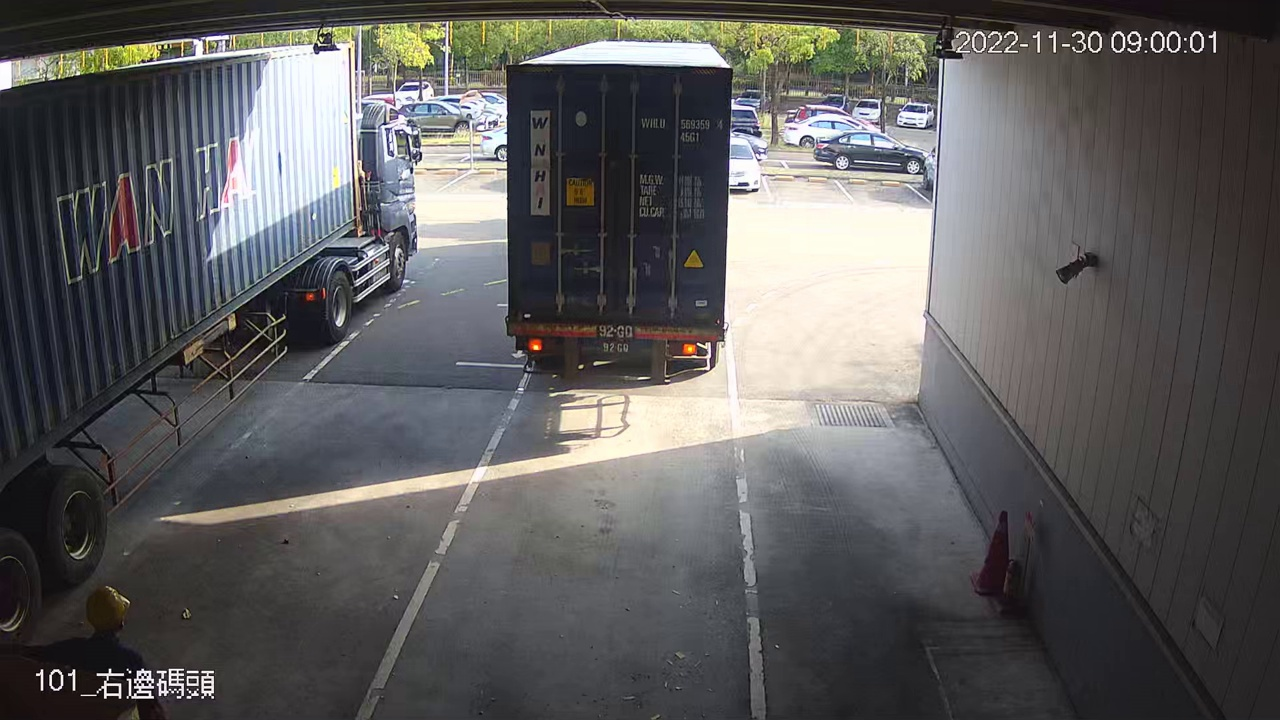container: (638, 111, 726, 149)
